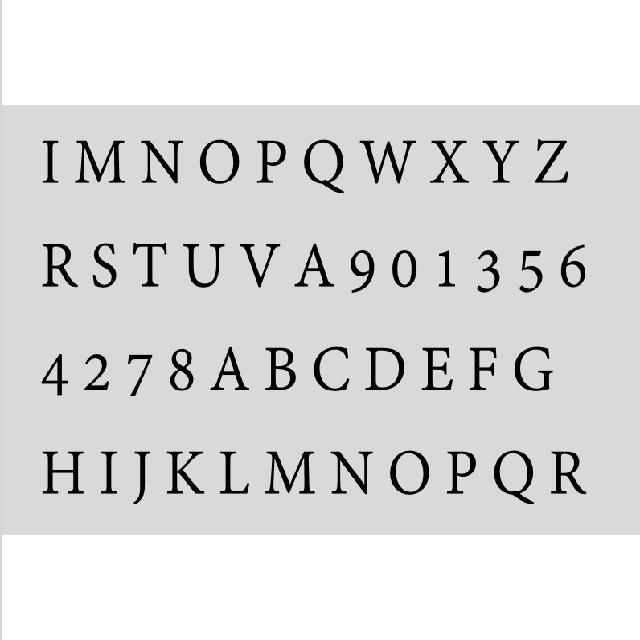0: (390, 244, 416, 296)
1: (436, 245, 458, 293)
2: (84, 345, 111, 398)
3: (476, 246, 501, 296)
4: (41, 345, 68, 400)
5: (518, 244, 543, 298)
6: (559, 238, 586, 292)
7: (126, 346, 152, 400)
8: (170, 342, 198, 397)
9: (346, 241, 377, 296)
A: (293, 242, 332, 294), (211, 347, 247, 395)
B: (263, 338, 298, 394)
C: (310, 338, 351, 394)
D: (362, 341, 404, 396)
E: (421, 338, 454, 394)
F: (469, 338, 499, 396)
G: (504, 343, 558, 396)
H: (36, 442, 81, 497)
I: (93, 441, 124, 502), (40, 130, 61, 190)
K: (162, 442, 205, 500)
L: (214, 443, 249, 500)
M: (262, 444, 316, 494), (72, 137, 124, 186)
N: (330, 442, 377, 499), (139, 138, 182, 188)
O: (385, 443, 431, 499), (195, 133, 240, 187)
P: (447, 444, 479, 502), (255, 132, 287, 188)
Q: (488, 442, 538, 510), (305, 136, 349, 201)
R: (550, 446, 588, 502), (42, 239, 78, 295)
S: (91, 236, 119, 296)
T: (132, 237, 168, 293)
U: (183, 238, 225, 294), (132, 442, 153, 505)
V: (236, 238, 278, 294)
W: (363, 136, 419, 188)
X: (429, 132, 468, 187)
Y: (478, 137, 516, 190)
Z: (533, 130, 572, 188)
